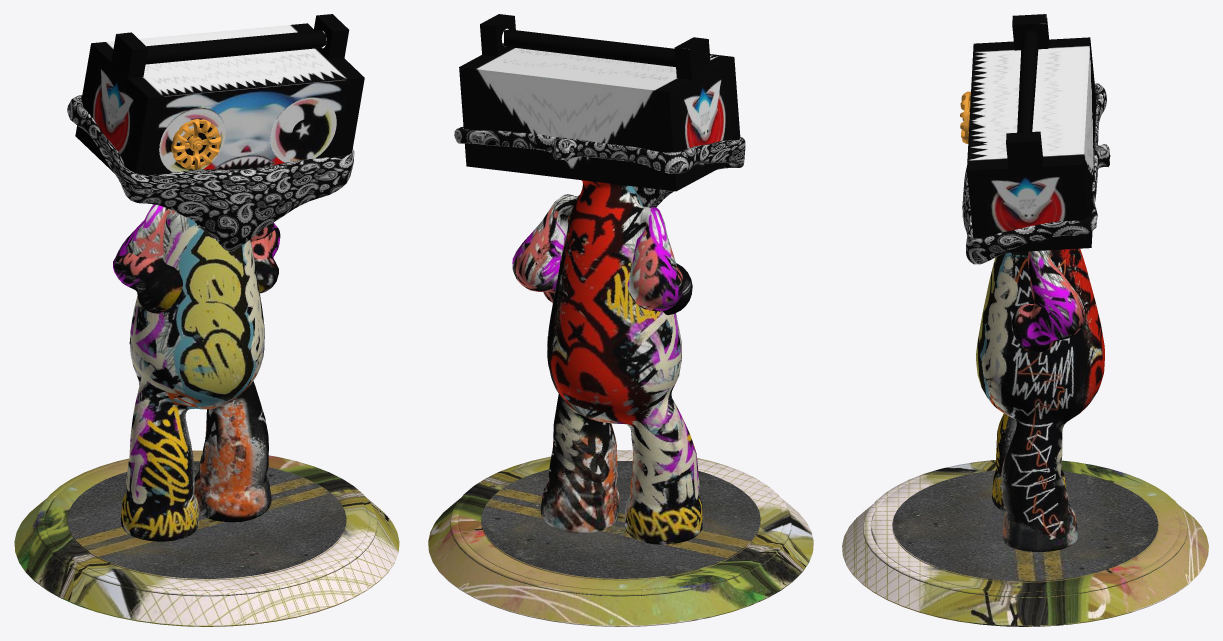
The picture shows the model from 3 angles, left to right: view 1: azimuth 30°, elevation 25°; view 2: azimuth 150°, elevation 25°; view 3: azimuth 270°, elevation 25°; orthographic projection. The views are drawn at different scales.
Bounding box in the file's own units: 1.45 × 2.17 × 1.45.
6 materials, 6 textured.
